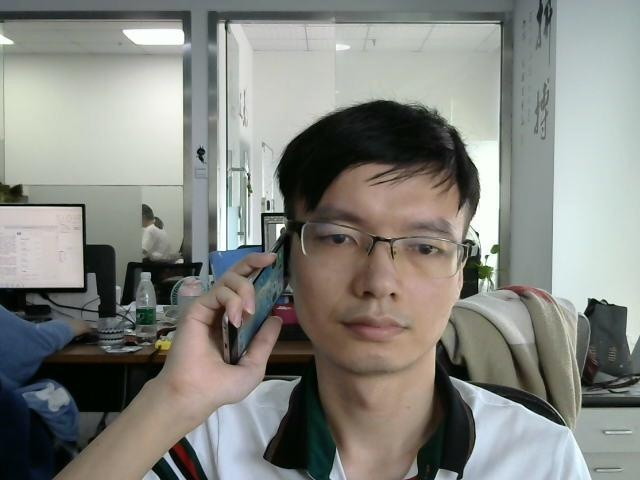hand: (175, 242, 278, 412)
